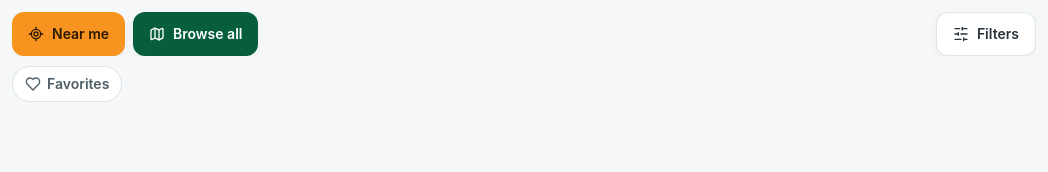
initial location (test A) › stores lastKnownPosition, switches to nearby mode and starts ONE watcher
Click the button "Near me" at (69, 34), box top-left (12, 12), bottom-right (125, 56)
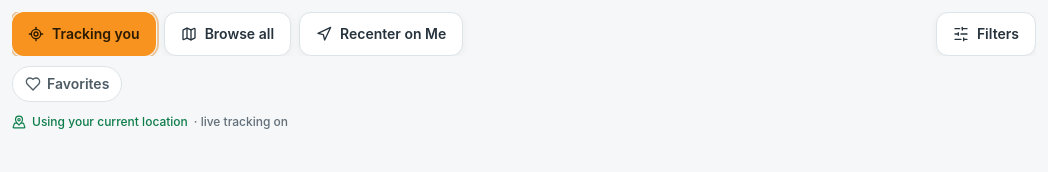
Expected: the button "Tracking you" is shown, top-left (12, 12), bottom-right (156, 56)
